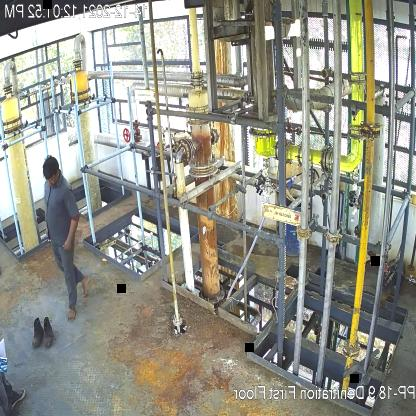no_shoes: (81, 274, 92, 297), (66, 301, 78, 321)
shoes: (29, 315, 45, 354), (42, 316, 56, 348)
